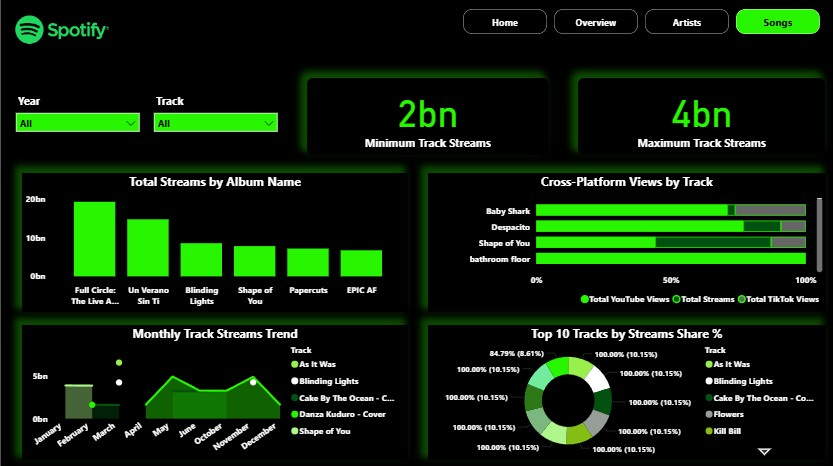

This screenshot's page, from the dashboard's own definition file:
{"tool":"powerbi","page":{"name":"Songs","canvas":[1280,720],"ordinal":3},"visuals":[{"type":"hundredPercentStackedBarChart","title":"Cross-Platform Views by Track","fields":{"Category":["Most Streamed Spotify Songs 2024.Track"],"Y":["Most Streamed Spotify Songs 2024.Total YouTube Views","Most Streamed Spotify Songs 2024.Total Streams","Most Streamed Spotify Songs 2024.Total TikTok Views"]},"box":[655.1,268.8,572.8,199.9],"z":0},{"type":"areaChart","title":"Monthly Track Streams Trend","fields":{"Category":["Most Streamed Spotify Songs 2024.Release Date.Variation.Date Hierarchy.Month"],"Y":["Most Streamed Spotify Songs 2024.Total Streams"],"Series":["Most Streamed Spotify Songs 2024.Track"]},"box":[70.6,488.8,556,194.9],"z":1000},{"type":"pageNavigator","box":[705.5,33.6,514,37],"z":2000},{"type":"image","box":[0,15,256.7,96.7],"z":3000},{"type":"donutChart","title":"Top 10 Tracks by Streams Share %","fields":{"Category":["Most Streamed Spotify Songs 2024.Track"],"Y":["Most Streamed Spotify Songs 2024.Top 10 Songs Streams %"]},"box":[655.1,488.8,572.8,194.9],"z":4000},{"type":"card","fields":{"Values":["Most Streamed Spotify Songs 2024.Min Streams"]},"box":[480.4,132.7,347.7,110.9],"z":5000},{"type":"card","fields":{"Values":["Most Streamed Spotify Songs 2024.Max Streams"]},"box":[871.8,132.7,356.1,110.9],"z":6000},{"type":"slicer","fields":{"Values":["Most Streamed Spotify Songs 2024.Release Date.Variation.Date Hierarchy.Year"]},"box":[52.1,149.5,198.2,94.1],"z":7000},{"type":"slicer","fields":{"Values":["Most Streamed Spotify Songs 2024.Track"]},"box":[250.3,149.5,198.2,90.7],"z":8000},{"type":"columnChart","fields":{"Y":["Most Streamed Spotify Songs 2024.Total Streams"],"Category":["Most Streamed Spotify Songs 2024.Album Name"]},"box":[70.6,268.8,556,199.9],"z":9000}]}

Visuals, with their boxes in screenshot pixels (x1, y1, x2, y2), scaled from the page's 1280x720 canvas onto the 833x466 screenshot:
"Cross-Platform Views by Track" hundredPercentStackedBarChart: select_region(426, 174, 799, 303)
"Monthly Track Streams Trend" areaChart: select_region(46, 316, 408, 443)
pageNavigator: select_region(459, 22, 794, 46)
image: select_region(0, 10, 167, 72)
"Top 10 Tracks by Streams Share %" donutChart: select_region(426, 316, 799, 443)
card - Most Streamed Spotify Songs 2024.Min Streams: select_region(313, 86, 539, 158)
card - Most Streamed Spotify Songs 2024.Max Streams: select_region(567, 86, 799, 158)
slicer - Most Streamed Spotify Songs 2024.Release Date.Variation.Date Hierarchy.Year: select_region(34, 97, 163, 158)
slicer - Most Streamed Spotify Songs 2024.Track: select_region(163, 97, 292, 155)
columnChart - Most Streamed Spotify Songs 2024.Total Streams x Most Streamed Spotify Songs 2024.Album Name: select_region(46, 174, 408, 303)
